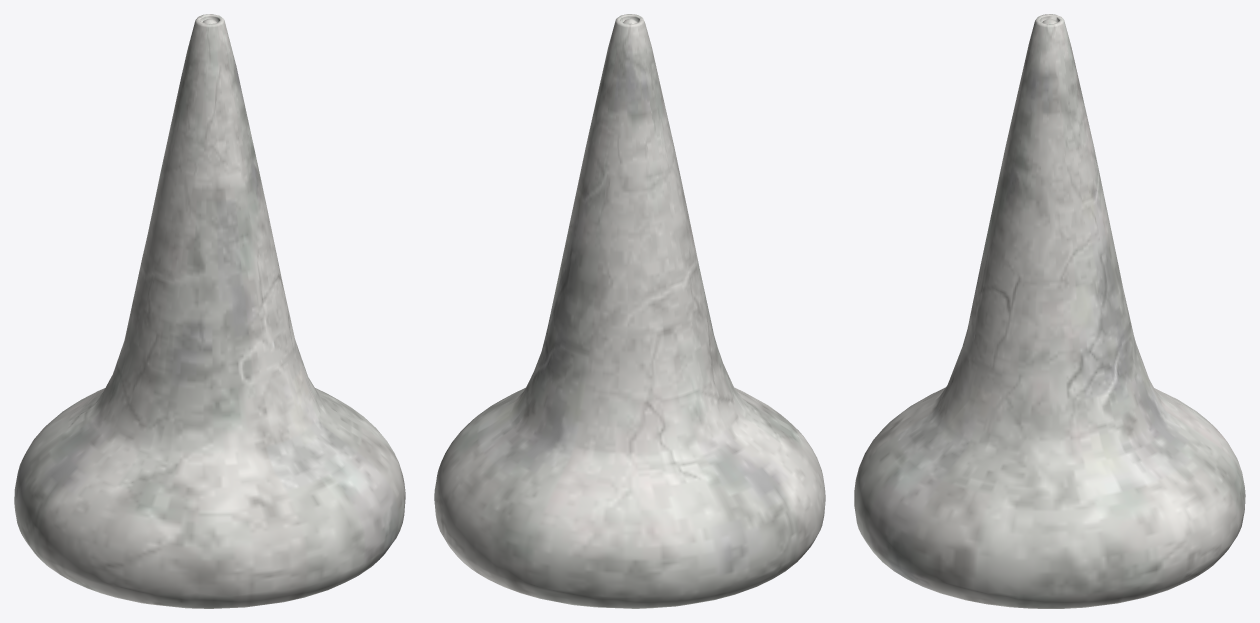
Rendered from Serpentina_pawn_white.glb.
The picture shows the model from 3 angles, left to right: view 1: azimuth 30°, elevation 25°; view 2: azimuth 150°, elevation 25°; view 3: azimuth 270°, elevation 25°; orthographic projection.
Visible parts, largest first — view 1: Serpentina_pawn_white; view 2: Serpentina_pawn_white; view 3: Serpentina_pawn_white.
Part boxes in pixels (x1,y1,x2,y2): Serpentina_pawn_white: [14, 14, 405, 608]; Serpentina_pawn_white: [434, 14, 825, 608]; Serpentina_pawn_white: [854, 14, 1245, 608].
Size of the model in its own units: 0.0388 by 0.0562 by 0.0387.
Materials: 1 (1 with a texture image).
